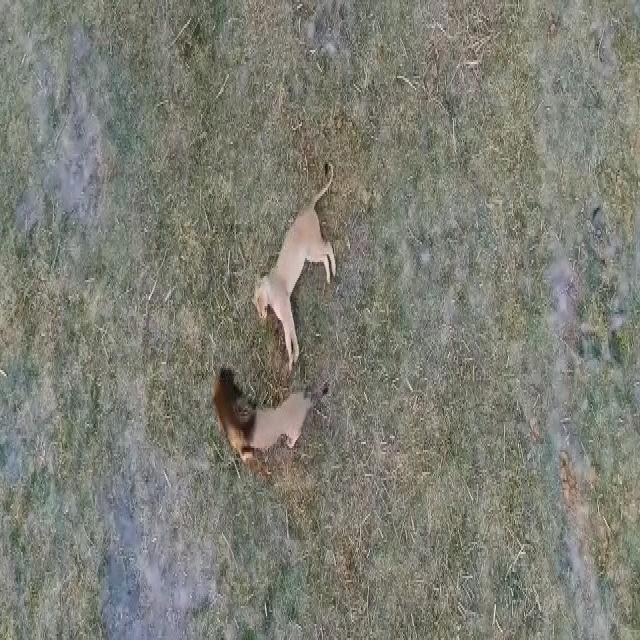Lion: (250, 165, 338, 360), (212, 358, 318, 473)
